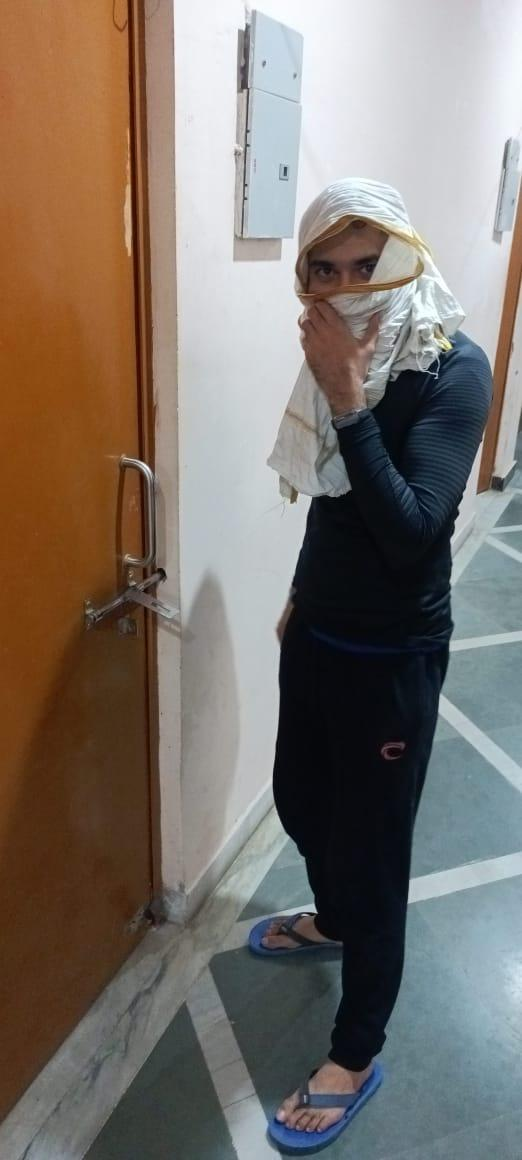suspicion: (143, 160, 522, 1160)
